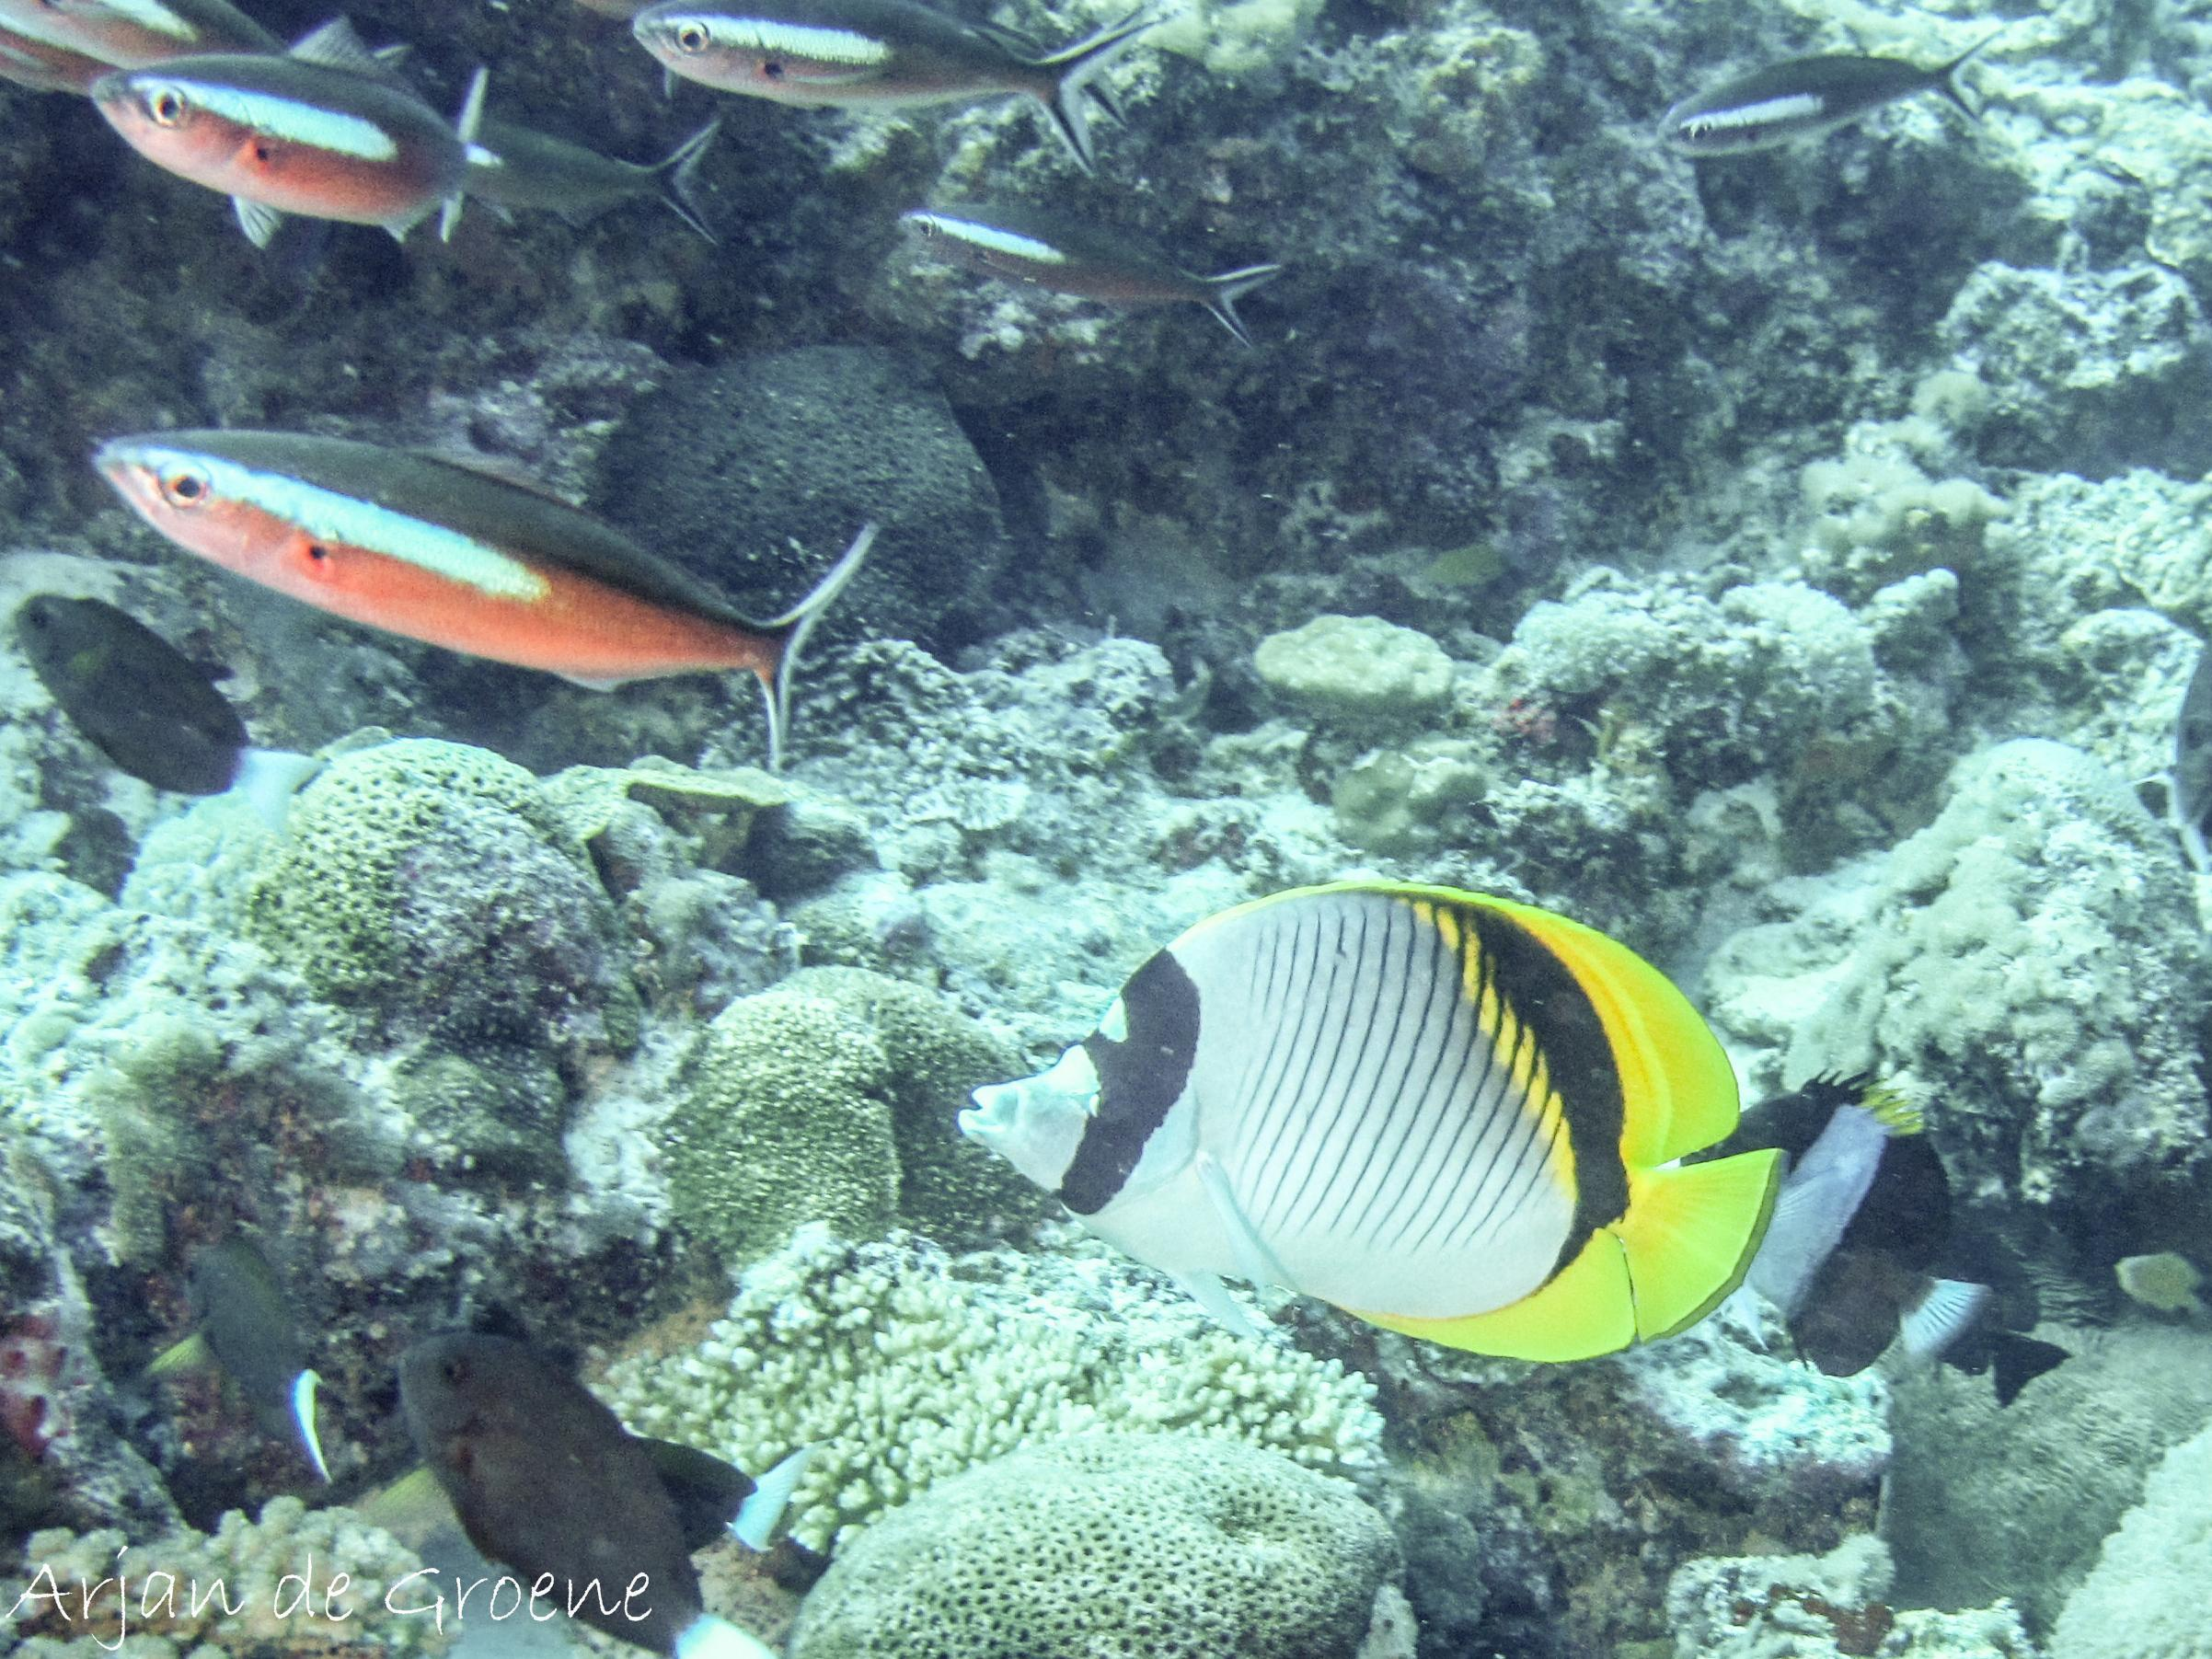Fish: (961, 868, 1791, 1408)
